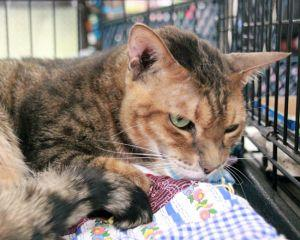bengal: (116, 13, 296, 183)
